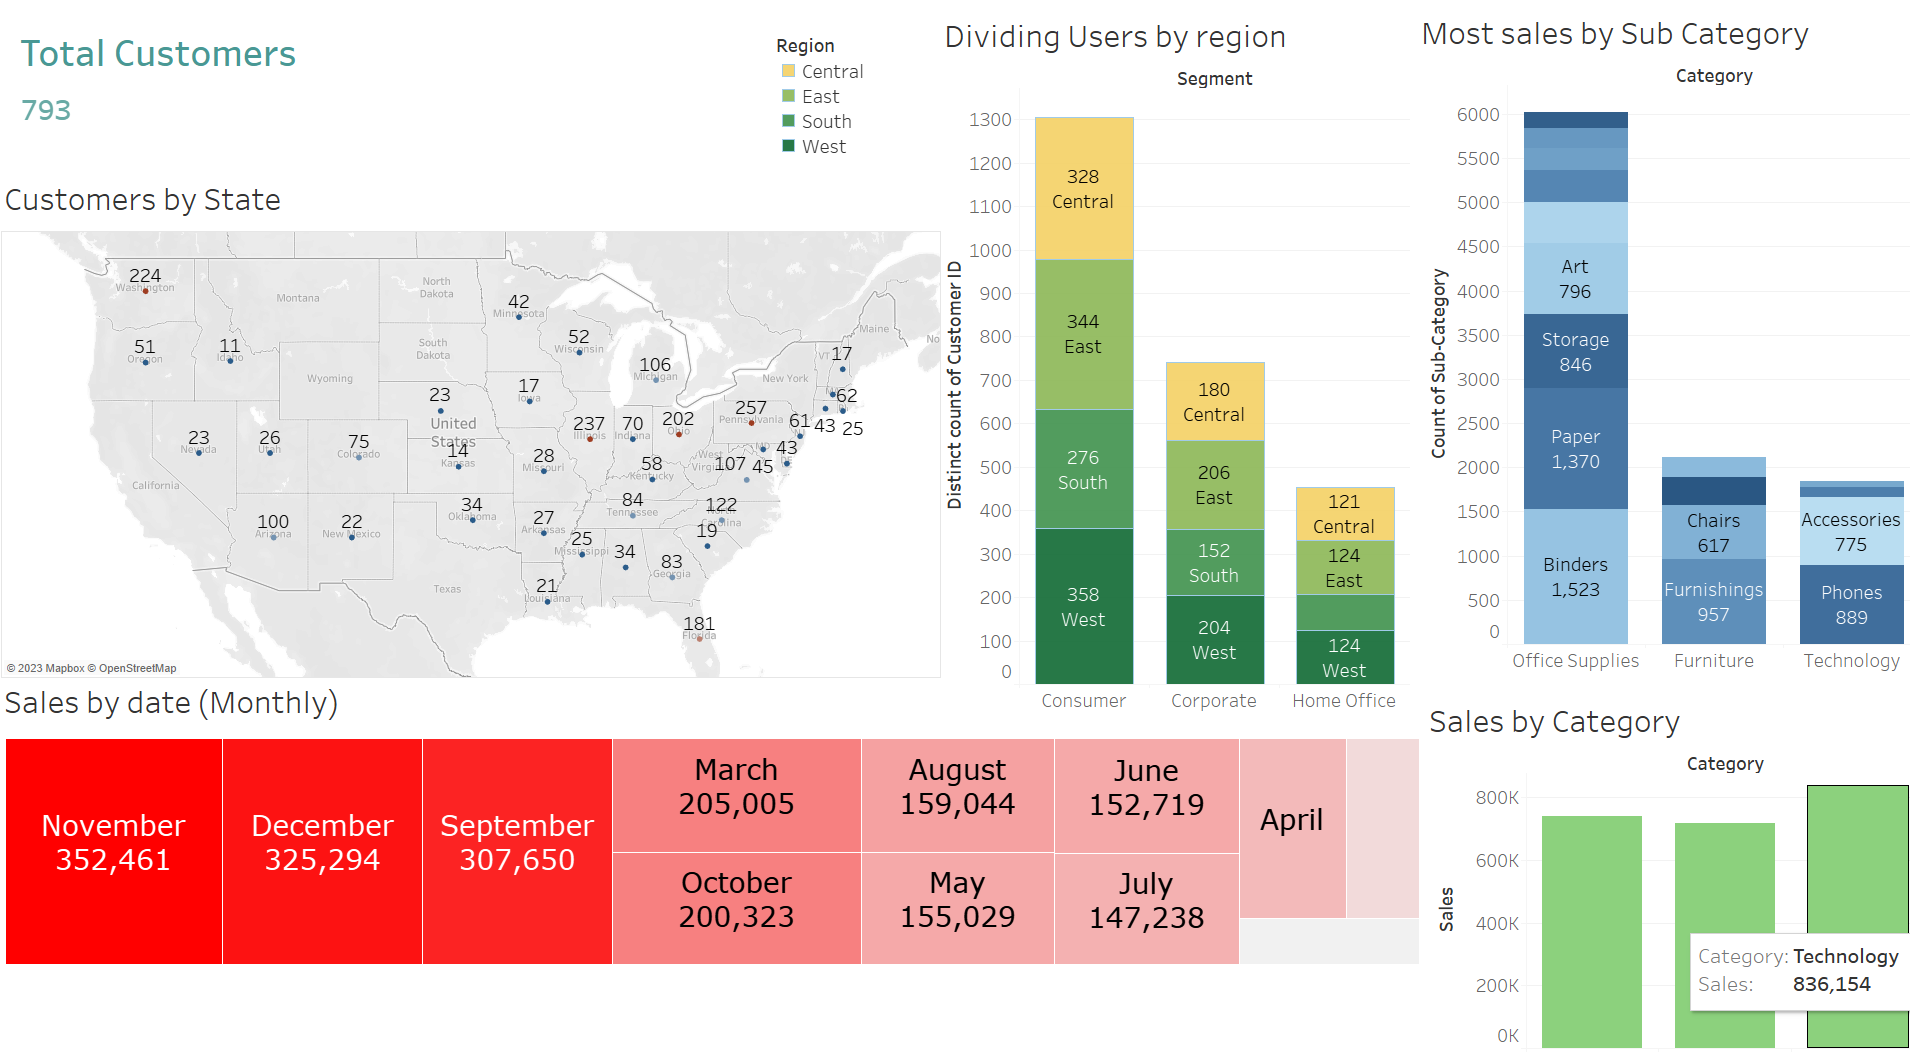

The page's visual inventory and layout, read from the dashboard file:
{"tool":"tableau","page":{"name":"Dashboard 1","canvas":[1000,1000],"units":"permille","ordinal":0},"visuals":[{"type":"worksheet","title":"Most sales by Sub Category","mark":"Bar","rows":["Sub-Category"],"cols":["Category"],"box":[738.6,0,262.1,646.4]},{"type":"worksheet","title":"Dividing Users by region","mark":"Bar","rows":["Customer ID"],"cols":["Segment"],"box":[490.3,2.5,244.5,667.5]},{"type":"worksheet","title":"Total Customers","mark":"Automatic","box":[8.8,14.9,391.9,139]},{"type":"legend","title":"Dividing Users by region","param":"[federated.0shn0vu03k83o41ehl96c1hytonz].[none:Region:nk]","box":[404.2,22.6,88.1,196.8]},{"type":"worksheet","title":"Customers by State","mark":"Line","box":[0.6,158.2,489.8,480.1]}]}

Visuals, with their boxes on the dashboard's canvas, which has no fixed pixel size, in thousandths of its width and height (x1, y1, x2, y2). These are canvas units, not pixel positions in the 1912x1060 screenshot, which may show the page scaled, cropped or inside an application window:
"Most sales by Sub Category" worksheet (Bar marks): 739/0/1001/646
"Dividing Users by region" worksheet (Bar marks): 490/2/735/670
"Total Customers" worksheet: 9/15/401/154
"Dividing Users by region" legend: 404/23/492/219
"Customers by State" worksheet (Line marks): 1/158/490/638
